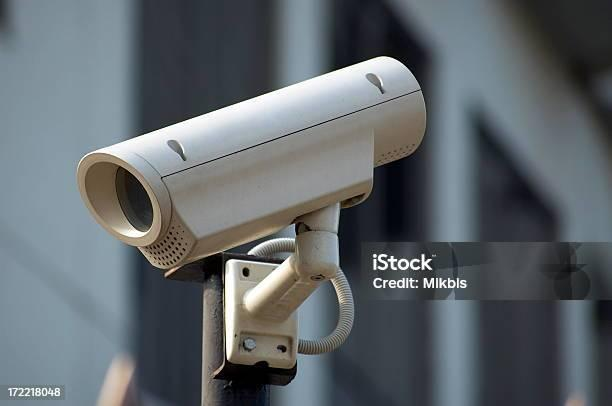------------------------------: (73, 52, 433, 267)
